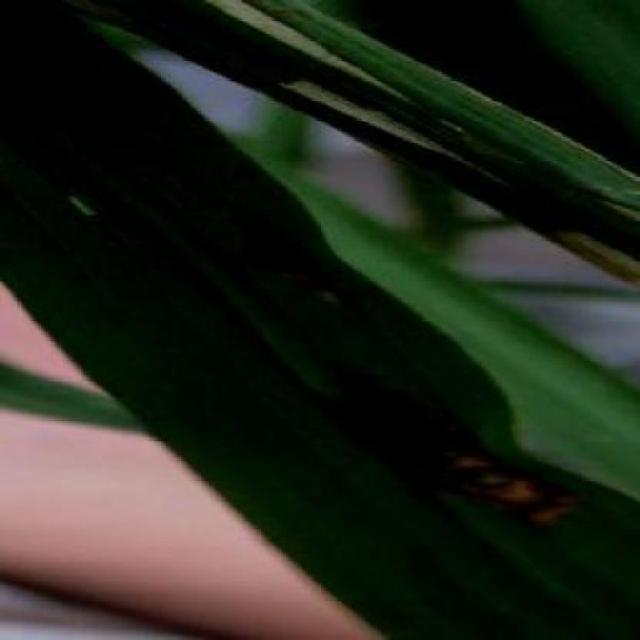Bacterial_Leaf_Blight: (285, 348, 586, 560), (196, 192, 356, 336), (58, 1, 298, 41)
